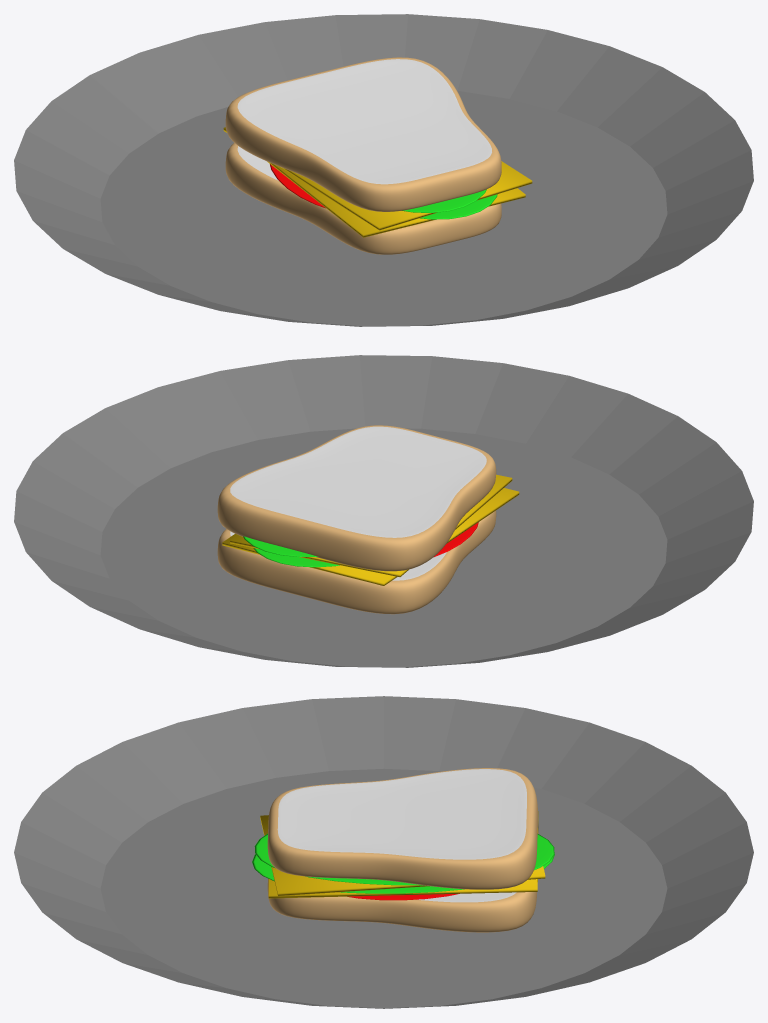
The model's file is SANDWICH_REVAMPED.gltf.
3 views of the same model, one above another, from view 1: azimuth 30°, elevation 25°; view 2: azimuth 150°, elevation 25°; view 3: azimuth 270°, elevation 25° (orthographic).
Visible parts, largest first — view 1: Circle_2.001, Cube.001_4, Cube_3, Plane.004_9, Plane.001_6, Plane.005_10, Plane.002_7; view 2: Circle_2.001, Cube.001_4, Cube_3, Plane.001_6, Plane.004_9, Plane.002_7; view 3: Circle_2.001, Cube.001_4, Cube_3, Plane.004_9, Plane.001_6, Plane.005_10, Plane.002_7.
Part boxes in pixels (bbox=[...]): Circle_2.001: bbox=[14, 14, 753, 326]; Cube.001_4: bbox=[225, 57, 501, 211]; Cube_3: bbox=[225, 143, 501, 254]; Plane.004_9: bbox=[223, 127, 532, 230]; Plane.001_6: bbox=[267, 161, 525, 237]; Plane.005_10: bbox=[402, 189, 486, 212]; Plane.002_7: bbox=[420, 194, 497, 219]; Circle_2.001: bbox=[14, 355, 753, 667]; Cube.001_4: bbox=[217, 425, 496, 571]; Cube_3: bbox=[217, 510, 496, 614]; Plane.001_6: bbox=[222, 488, 519, 585]; Plane.004_9: bbox=[230, 474, 512, 576]; Plane.002_7: bbox=[253, 548, 339, 567]; Circle_2.001: bbox=[14, 696, 753, 1008]; Cube.001_4: bbox=[267, 768, 537, 889]; Cube_3: bbox=[267, 878, 536, 932]; Plane.004_9: bbox=[260, 815, 545, 896]; Plane.001_6: bbox=[268, 811, 538, 898]; Plane.005_10: bbox=[254, 833, 554, 885]; Plane.002_7: bbox=[252, 854, 554, 893].
Size of the model in its own units: 2.09 by 0.2452 by 2.09.
